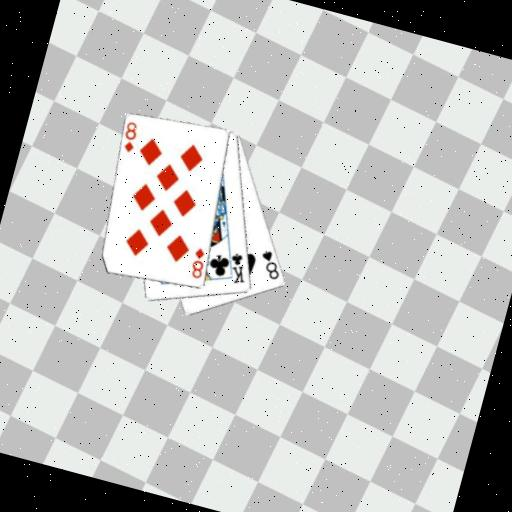8D: (185, 243, 210, 281), (117, 117, 141, 155)
8S: (253, 245, 287, 282)
KC: (217, 247, 253, 288)
